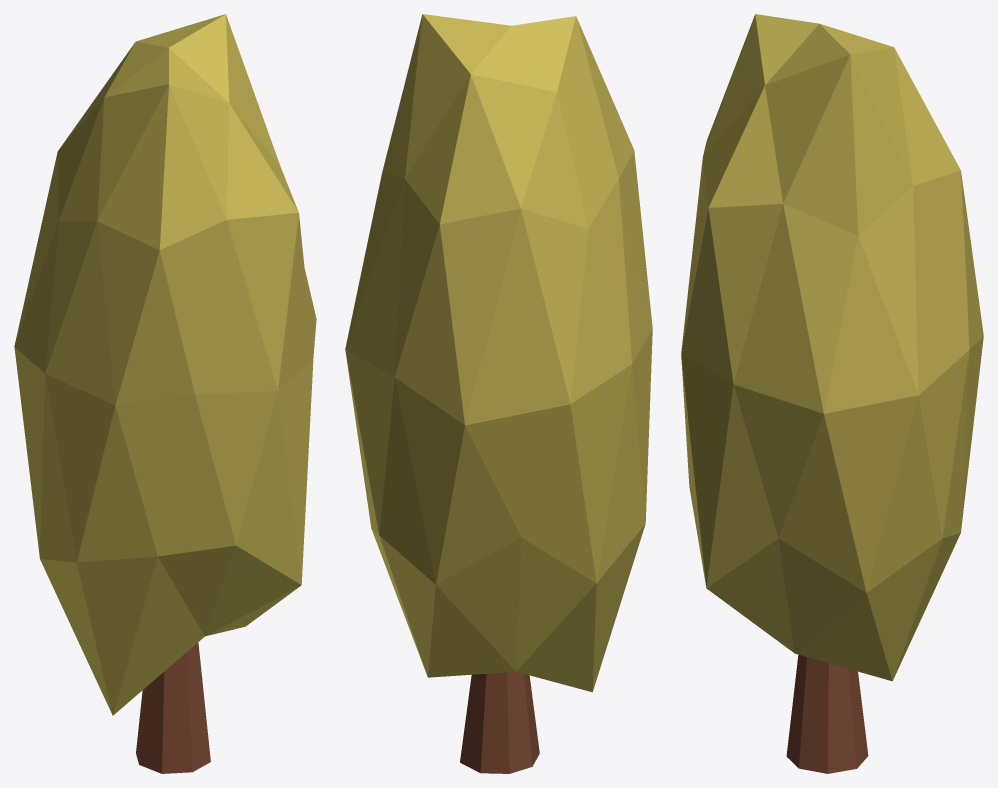
File: Tree_05_autumn_vc.fbx
3 views of the same model, side by side, from view 1: azimuth 30°, elevation 25°; view 2: azimuth 150°, elevation 25°; view 3: azimuth 270°, elevation 25° (orthographic). The views are drawn at different scales.
Parts seen in each view (by area): view 1: Tree_05_autumn_vc; view 2: Tree_05_autumn_vc; view 3: Tree_05_autumn_vc.
Part boxes in pixels (x1,y1,x2,y2): Tree_05_autumn_vc: (14,14,316,773); Tree_05_autumn_vc: (345,14,652,773); Tree_05_autumn_vc: (681,14,983,773).
Size of the model in its own units: 272 by 691 by 258.
